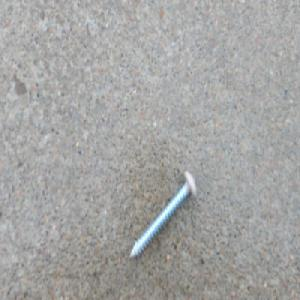Nail: (129, 169, 197, 261)
